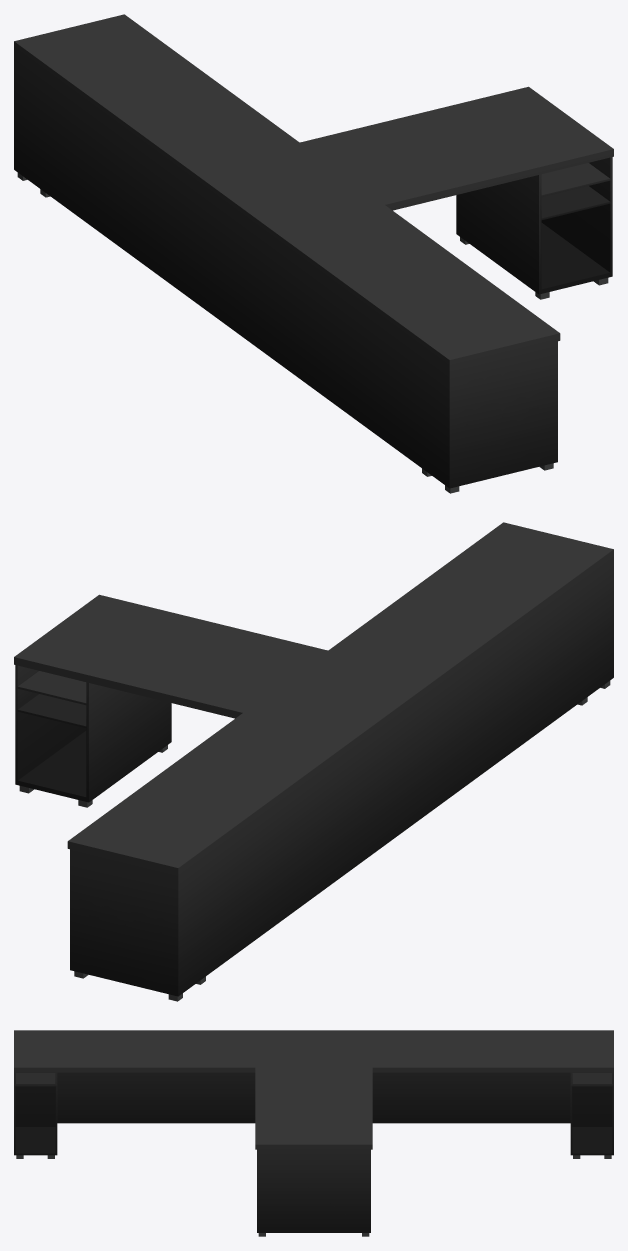
The model's file is Desk_Corner_Booth_D_Open_Black.fbx.
3 views of the same model, one above another, from view 1: azimuth 30°, elevation 25°; view 2: azimuth 150°, elevation 25°; view 3: azimuth 270°, elevation 25° (orthographic). The views are drawn at different scales.
Visible parts, largest first — view 1: Desk_Corner_Booth_D_Open_Black; view 2: Desk_Corner_Booth_D_Open_Black; view 3: Desk_Corner_Booth_D_Open_Black.
Boxes of the visible parts, <box> form: Desk_Corner_Booth_D_Open_Black: <box>14,14,613,493</box>; Desk_Corner_Booth_D_Open_Black: <box>14,522,613,1001</box>; Desk_Corner_Booth_D_Open_Black: <box>14,1030,613,1236</box>.
Size of the model in its own units: 184 by 70 by 409.
